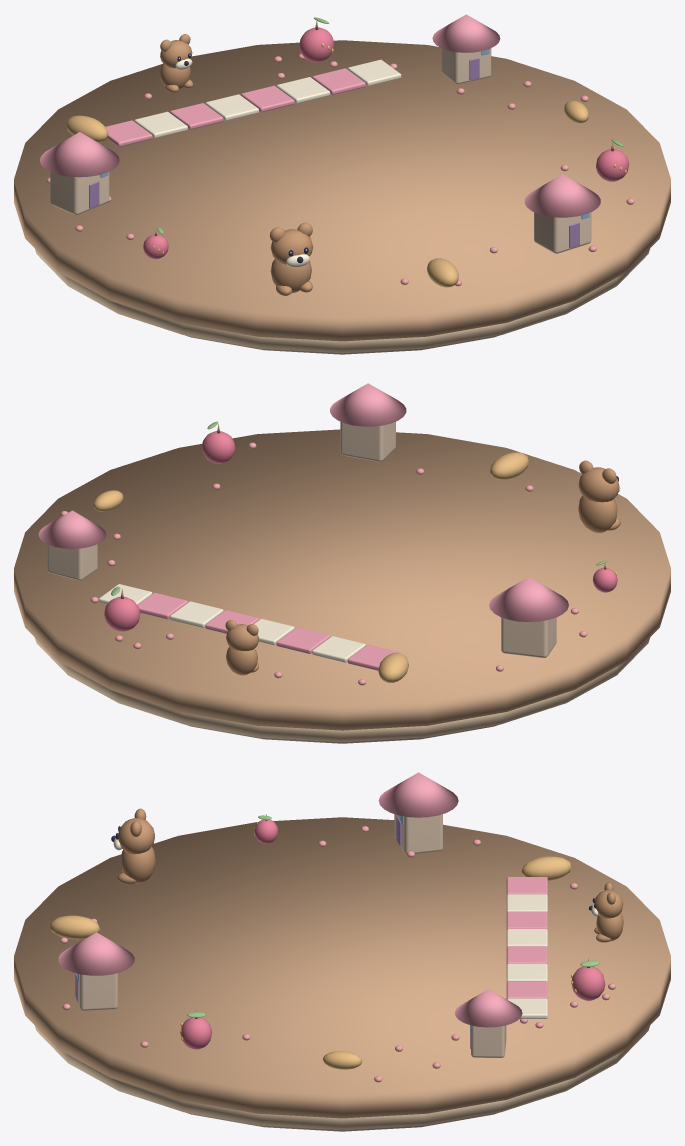
Rendered from world.glb.
3 renders of one model, top to bottom at view 1: azimuth 30°, elevation 25°; view 2: azimuth 150°, elevation 25°; view 3: azimuth 270°, elevation 25°, orthographic.
Visible parts, largest first — view 1: Cone, Cone.001, house.002, house.003, house.001, bear.002, bear.001, strawberry.001, strawberry.003, Cube.007, Cube.002, Cube.001 (+9 smaller); view 2: Cone, Cone.001, house.002, house.003, house.001, bear.002, bear.001, strawberry.001, strawberry.003, Cube.002, Cube.001, Cube.005 (+9 smaller); view 3: Cone, Cone.001, house.002, house.003, house.001, bear.002, bear.001, strawberry.001, bread.003, strawberry.003, bread.002, Cube (+10 smaller).
Boxes of the visible parts, x1,y1,x2,y2 form: Cone: (14, 40, 670, 341); Cone.001: (34, 248, 650, 353); house.002: (40, 132, 119, 214); house.003: (524, 174, 600, 253); house.001: (432, 14, 500, 84); bear.002: (269, 222, 313, 295); bear.001: (160, 34, 193, 92); strawberry.001: (299, 17, 334, 62); strawberry.003: (596, 139, 628, 181); Cube.007: (347, 59, 401, 86); Cube.002: (170, 103, 223, 129); Cube.001: (134, 111, 187, 138); Cone: (14, 429, 670, 730); Cone.001: (35, 638, 649, 742); house.002: (489, 577, 568, 657); house.003: (330, 383, 406, 461); house.001: (38, 510, 106, 580); bear.002: (578, 460, 620, 532); bear.001: (225, 620, 258, 675); strawberry.001: (104, 587, 140, 631); strawberry.003: (201, 421, 235, 463); Cube.002: (276, 627, 330, 653); Cube.001: (312, 636, 365, 662); Cube.005: (170, 601, 223, 627); Cone: (14, 817, 670, 1118); Cone.001: (34, 1025, 650, 1130); house.002: (378, 772, 458, 854); house.003: (58, 932, 134, 1010); house.001: (454, 989, 522, 1057); bear.002: (111, 808, 155, 884); bear.001: (588, 882, 623, 942); strawberry.001: (571, 958, 605, 1000); bread.003: (49, 915, 100, 939); strawberry.003: (180, 1010, 212, 1049); bread.002: (521, 856, 571, 880); Cube: (506, 877, 547, 895).
Bounding box in the file's own units: 9.6 × 1.97 × 9.6.
